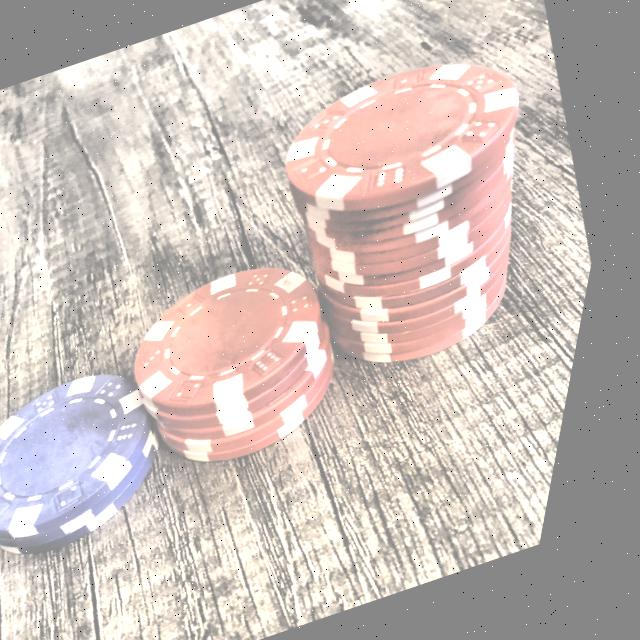Chip: (207, 5, 639, 416), (100, 216, 409, 494), (0, 338, 227, 576)
